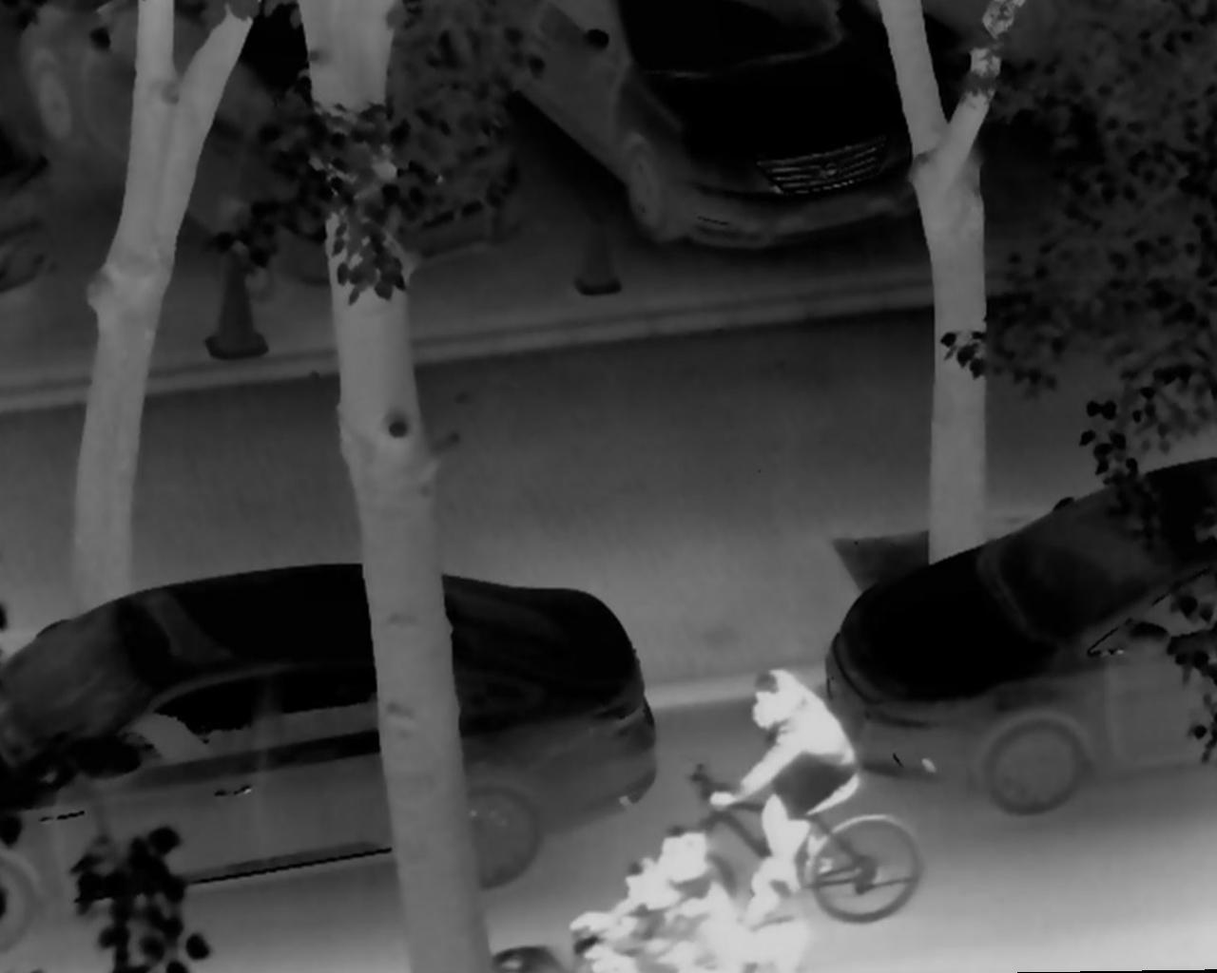person: (713, 653, 851, 928), (561, 811, 747, 973), (608, 854, 686, 973)
